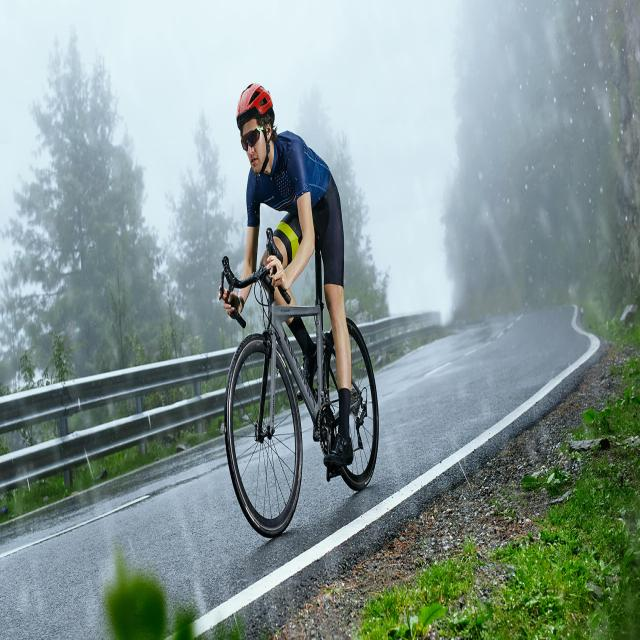bicycle: (219, 84, 379, 536)
